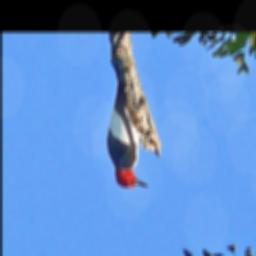Woodpecker: (97, 57, 155, 197)
